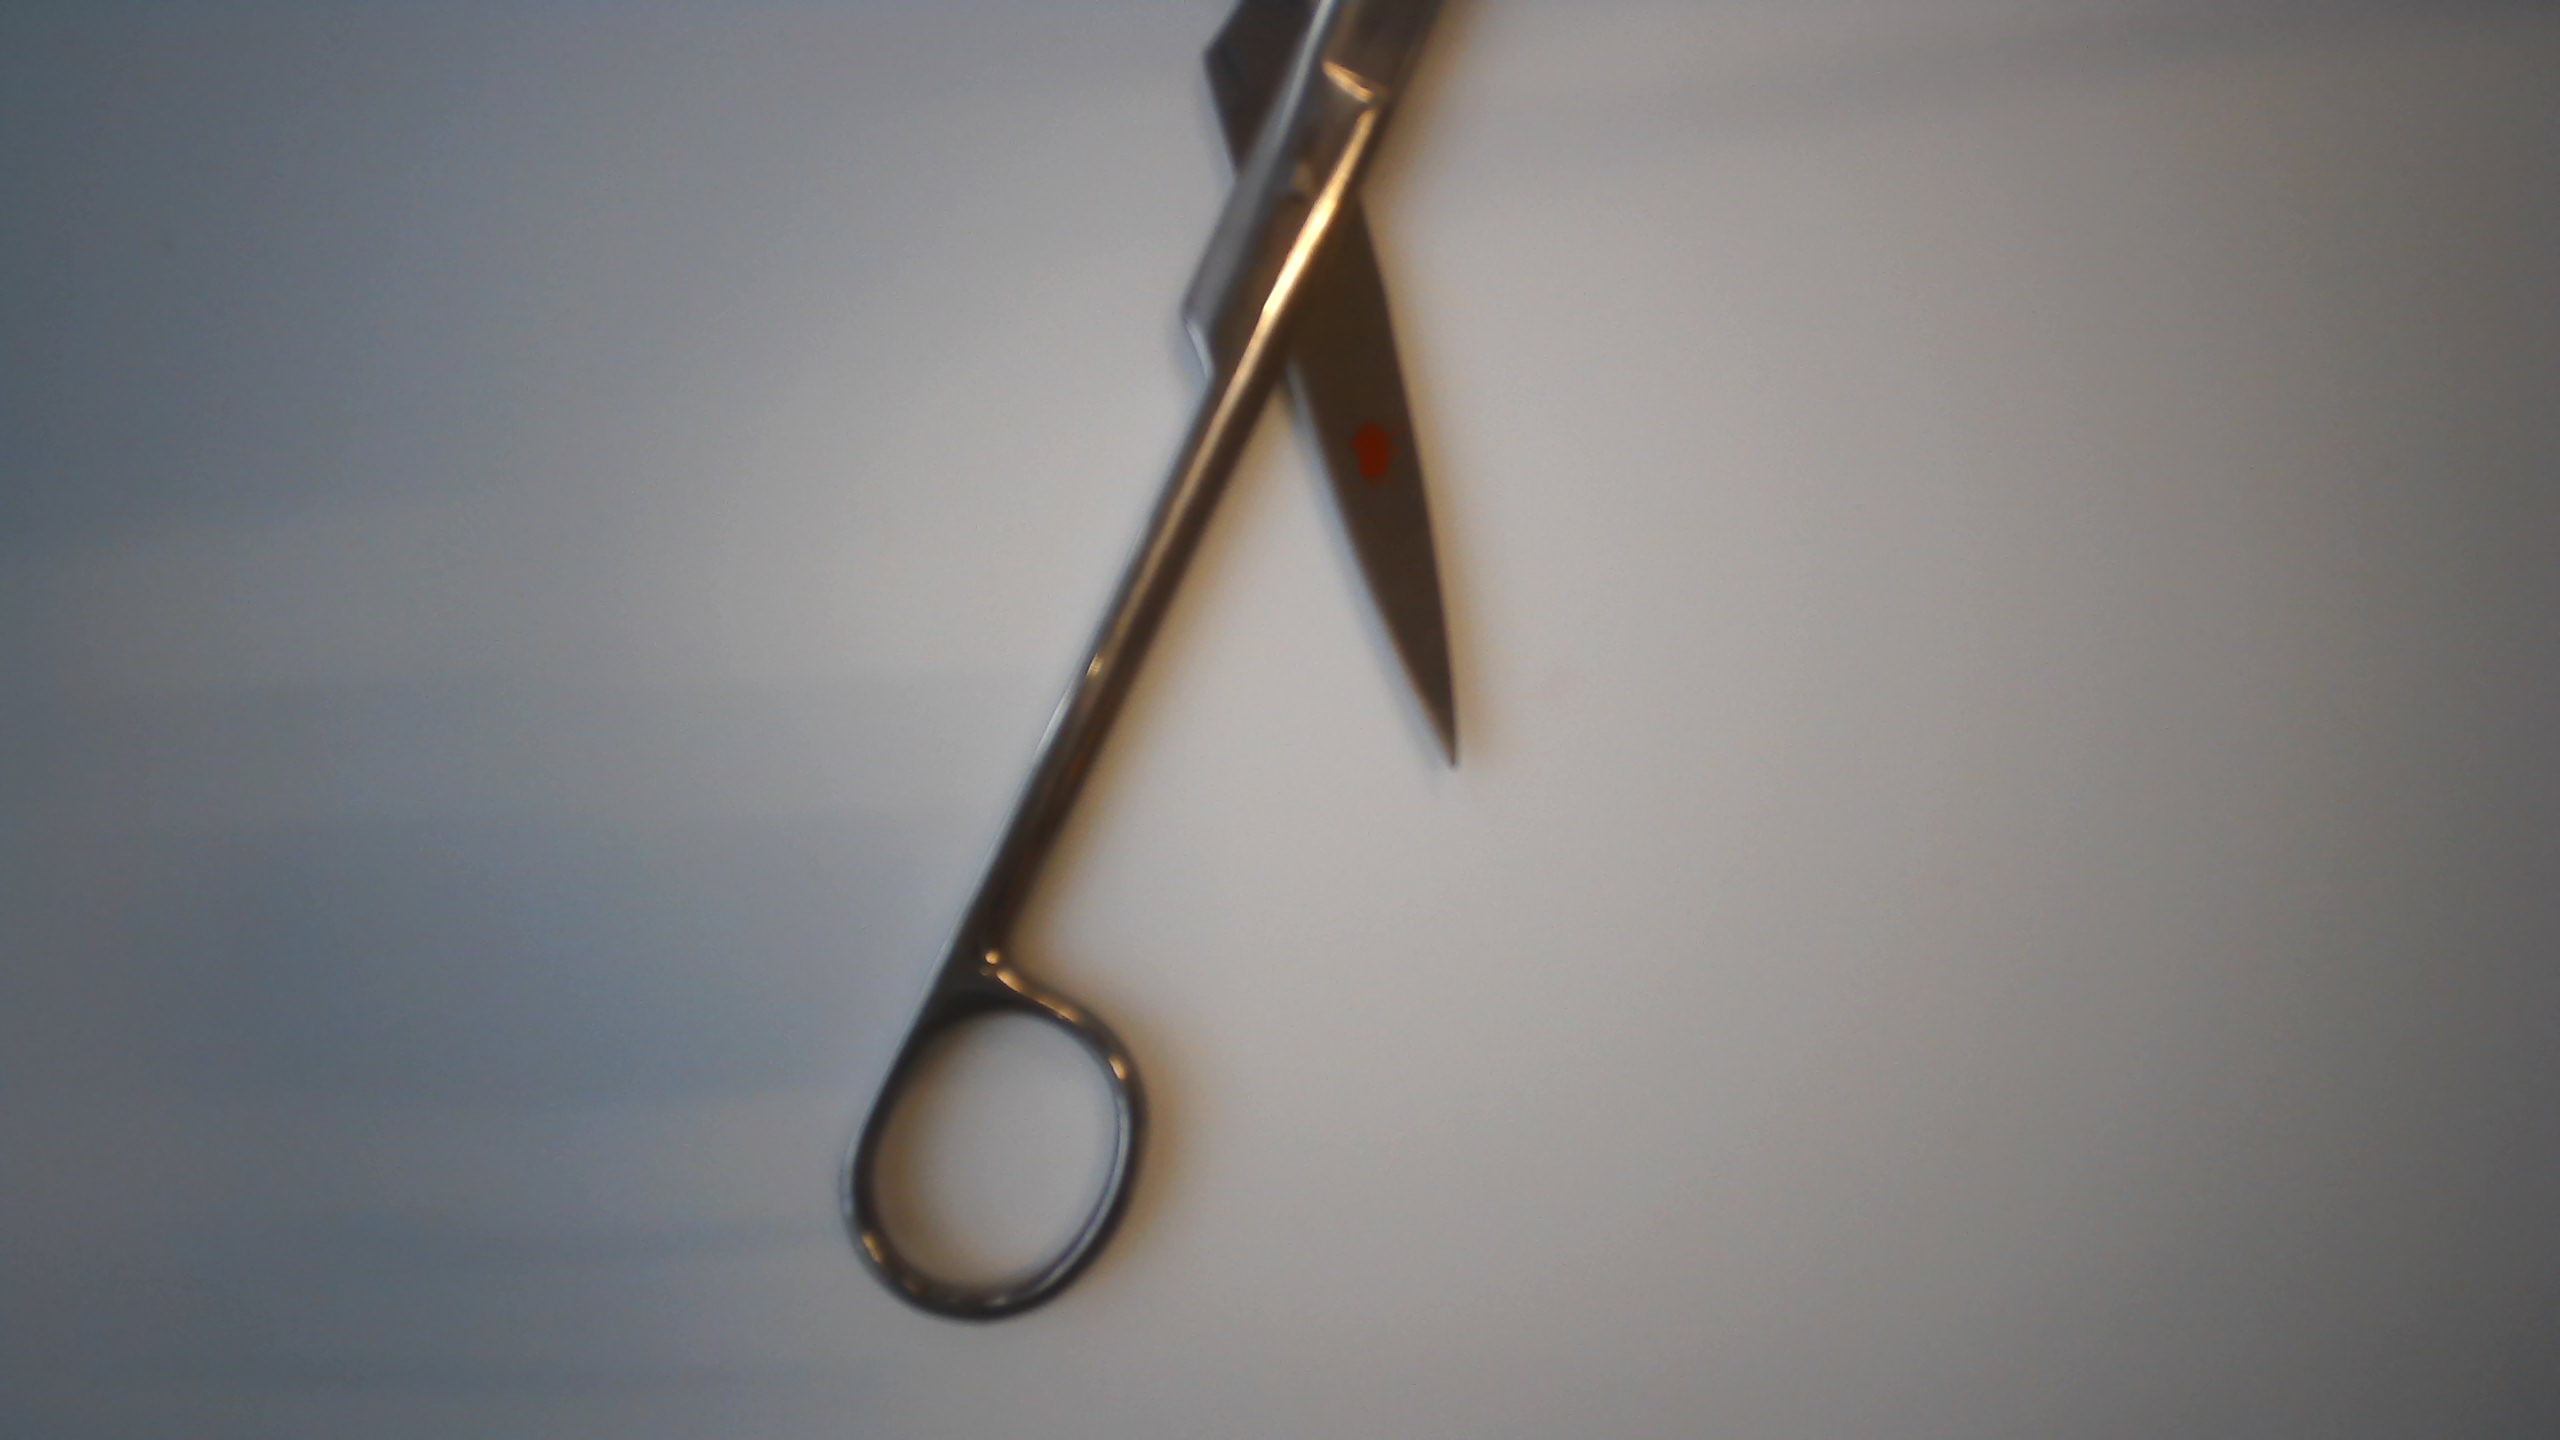Stain: (1342, 417, 1407, 492)
